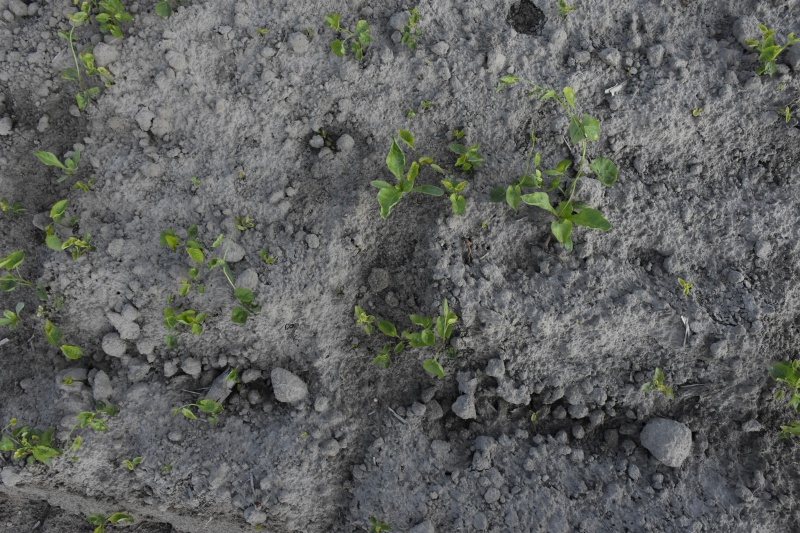field bindweed: (502, 75, 626, 209), (355, 304, 463, 375), (61, 4, 130, 102), (746, 22, 794, 74), (325, 13, 373, 64), (157, 226, 210, 266), (1, 427, 54, 466), (39, 321, 84, 361), (441, 178, 471, 219), (645, 368, 680, 400), (450, 140, 484, 168)
sugar beet: (371, 136, 441, 214), (527, 191, 608, 244), (34, 148, 90, 186)
